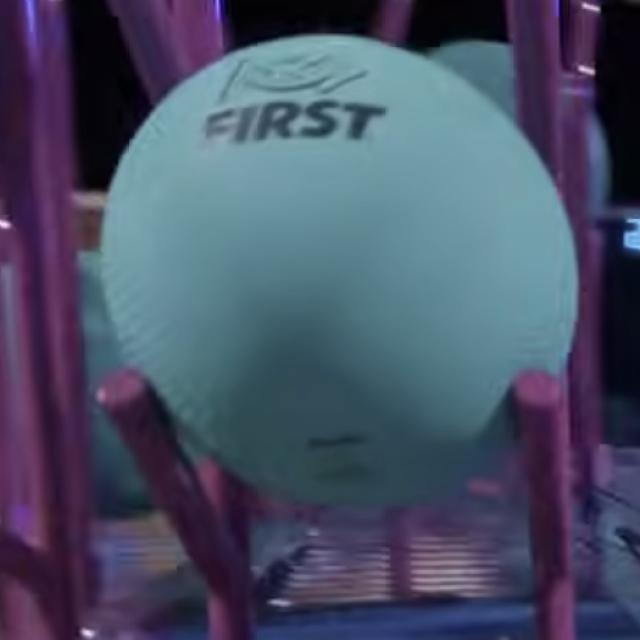Algae: (100, 36, 576, 512), (0, 253, 175, 516), (422, 42, 609, 235)
Reef: (92, 372, 245, 586), (517, 374, 569, 569), (0, 530, 48, 592)
